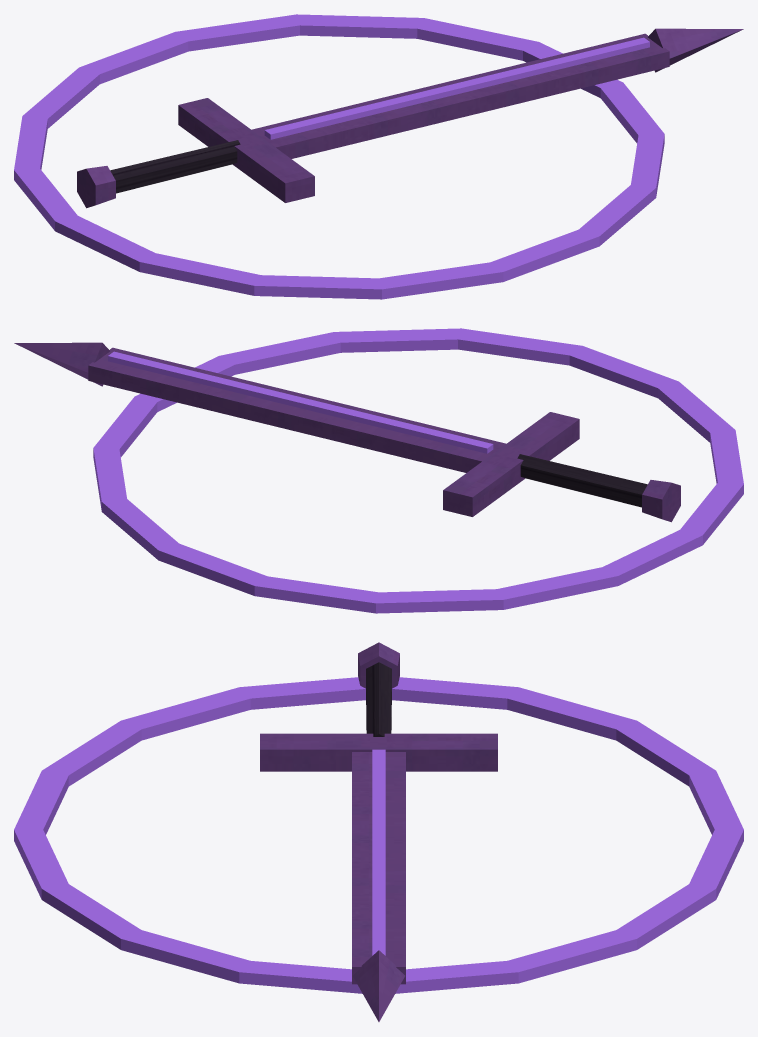
Rendered from loot_sword_g2.glb.
The picture shows the model from 3 angles, top to bottom: view 1: azimuth 30°, elevation 25°; view 2: azimuth 150°, elevation 25°; view 3: azimuth 270°, elevation 25°; orthographic projection. The views are drawn at different scales.
Visible parts, largest first — view 1: loot_sword_g2; view 2: loot_sword_g2; view 3: loot_sword_g2.
Part boxes in pixels (left/top/right/bottom): loot_sword_g2: left=14, top=14, right=743, bottom=299; loot_sword_g2: left=14, top=328, right=743, bottom=613; loot_sword_g2: left=14, top=642, right=743, bottom=1021.
Bounding box in the file's own units: 1.63 × 0.1275 × 1.35.
3 materials, 3 textured.
